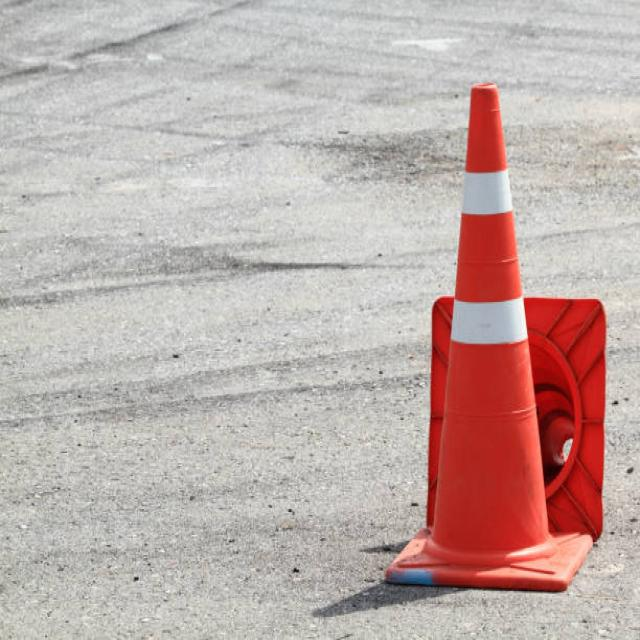Traffic Cone: (348, 43, 600, 615)
